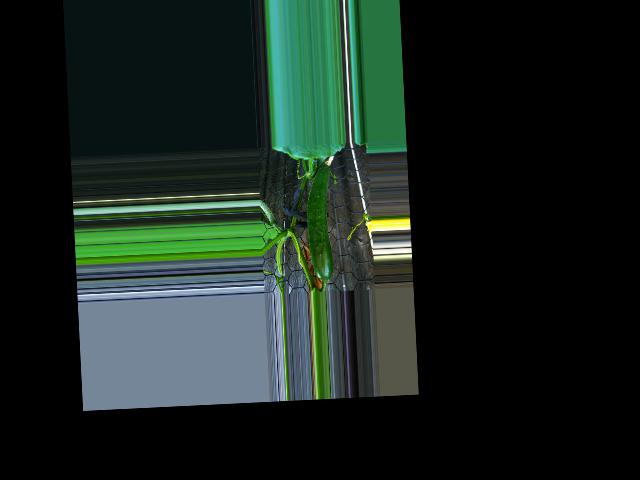cucumber: (303, 165, 334, 280)
